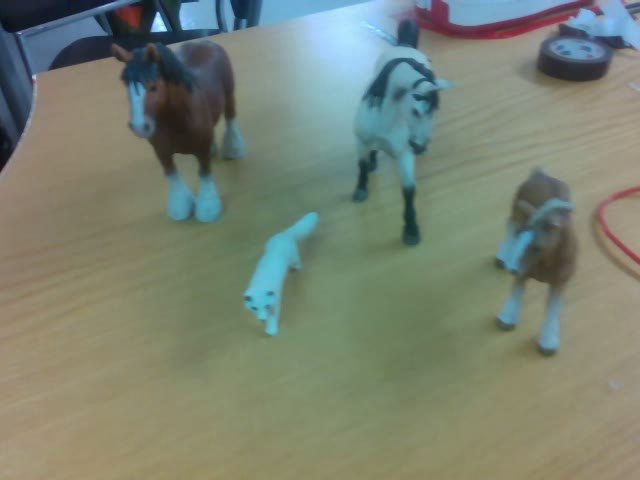toy: (109, 39, 244, 221), (353, 19, 454, 246), (496, 158, 579, 355), (244, 211, 326, 336)
